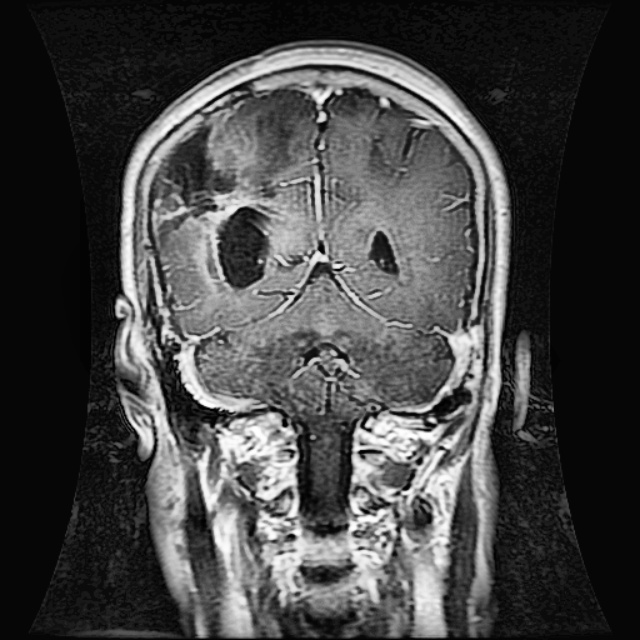Meningioma: (144, 103, 273, 290)
